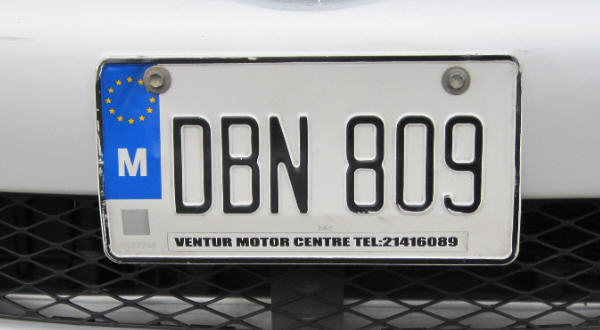license_plate: (97, 53, 522, 264)
